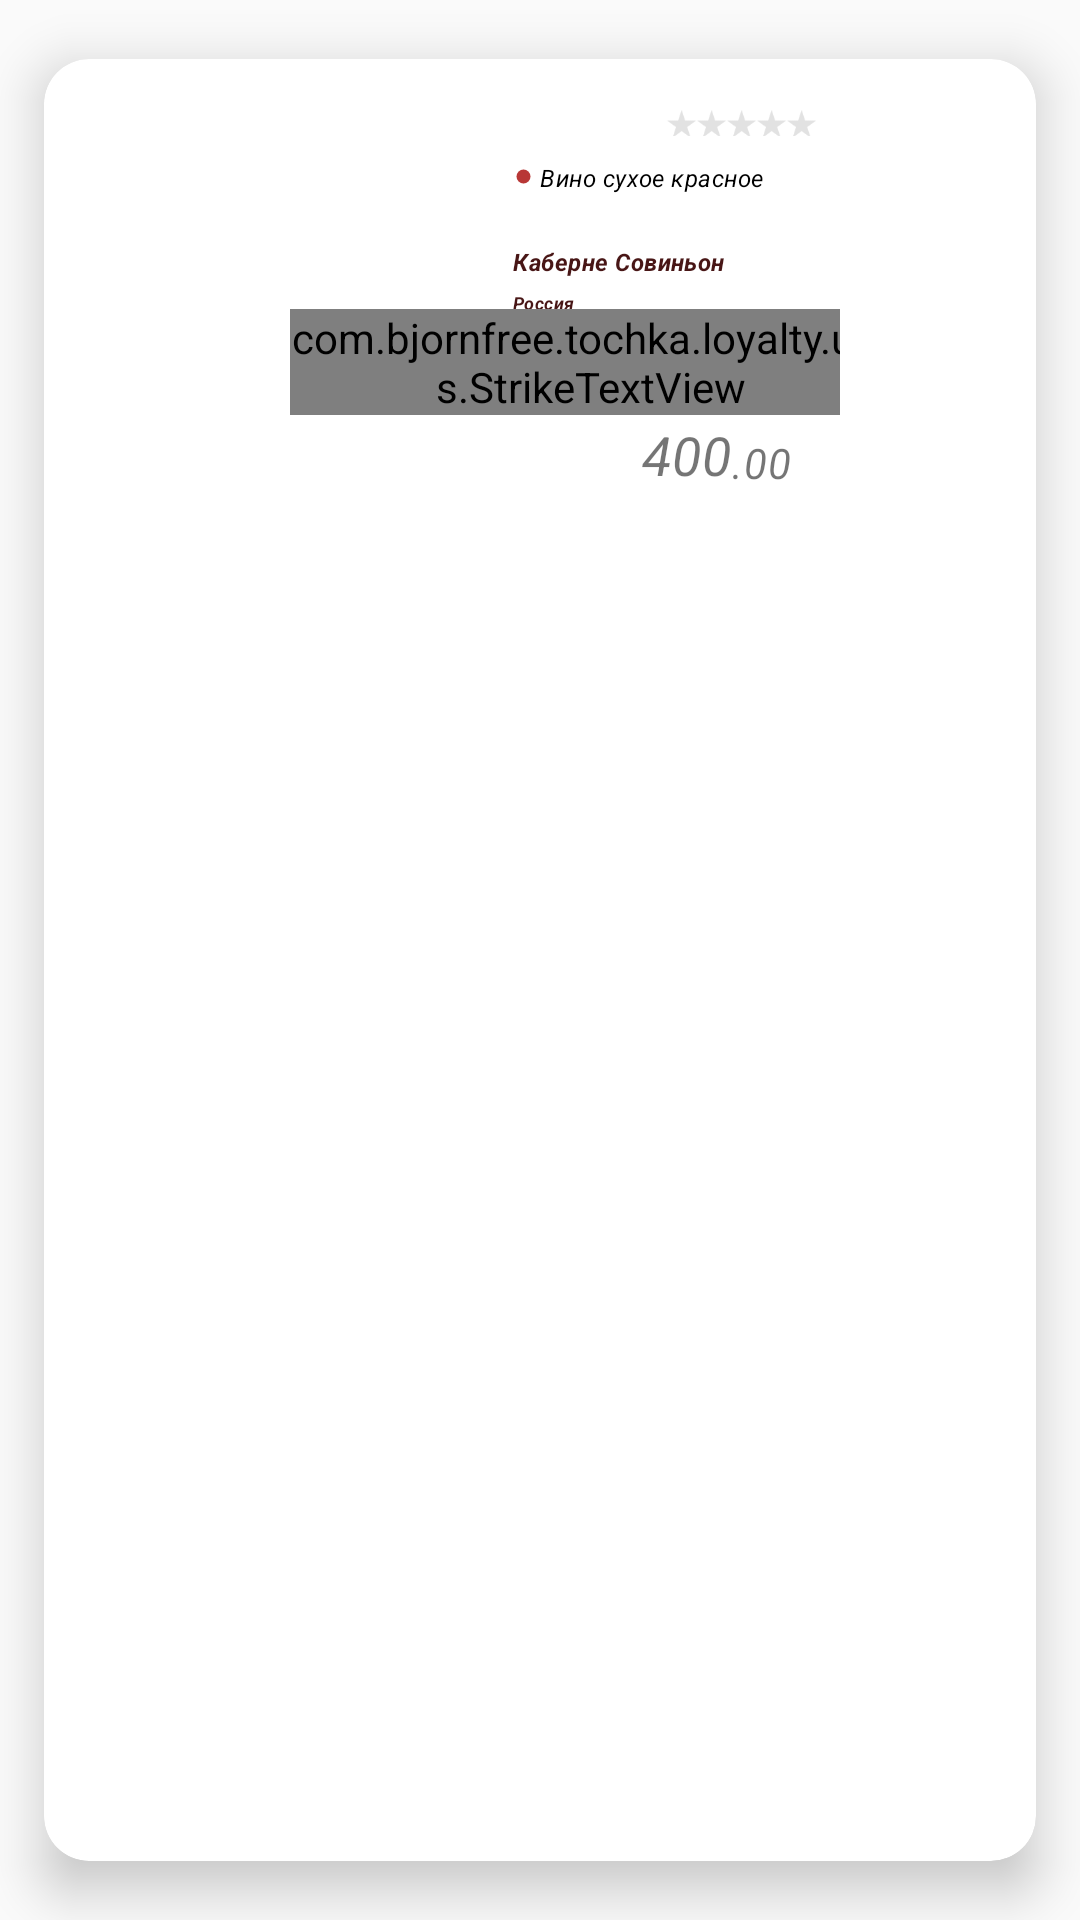

Named icons in this screenshot (1080w x 1920h) and their bounding boxes, rect(x1, y1, x2, y2):
star empty: rect(669, 112, 694, 136), rect(699, 112, 724, 136), rect(729, 112, 754, 136), rect(759, 112, 784, 136), rect(789, 112, 814, 136)
